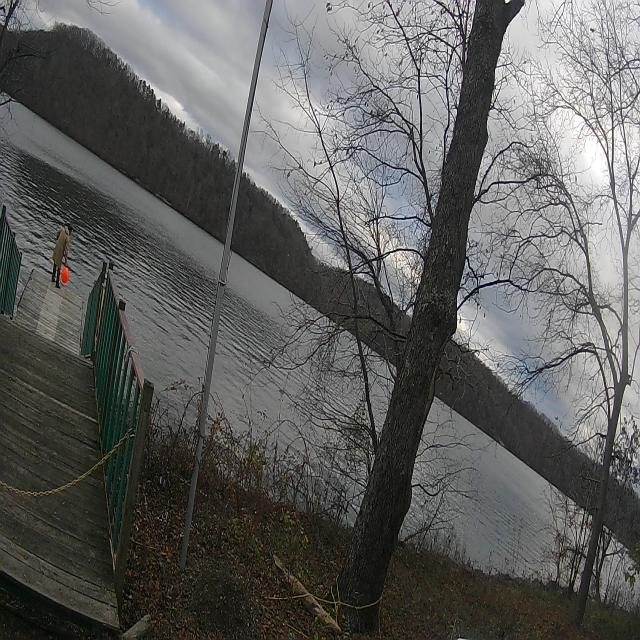Buoy: (58, 261, 72, 287)
